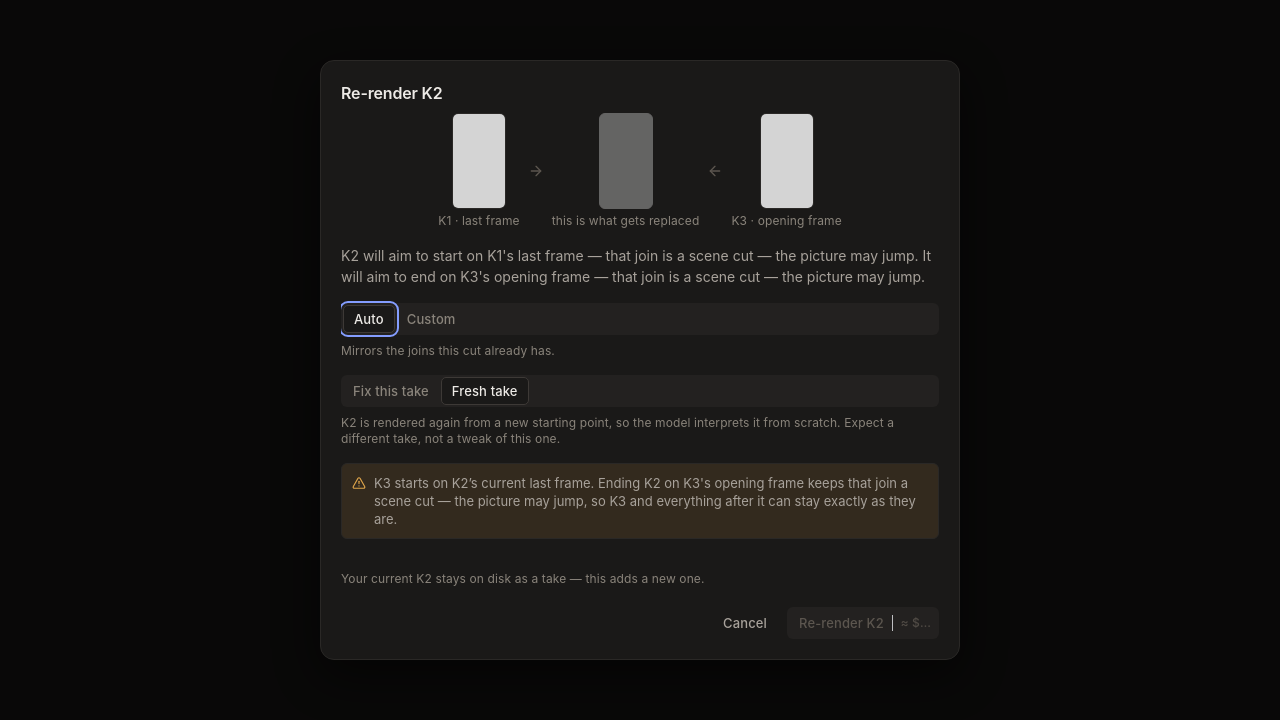
SegmentRerenderDialog — the boundary plan, in plain words (D14/D15) › Custom re-computes the sentence live, and opens on exactly what Auto would have done
Click the radio button labelled "Custom".
click(431, 319)  # box x1=397 y1=305 x2=466 y2=333
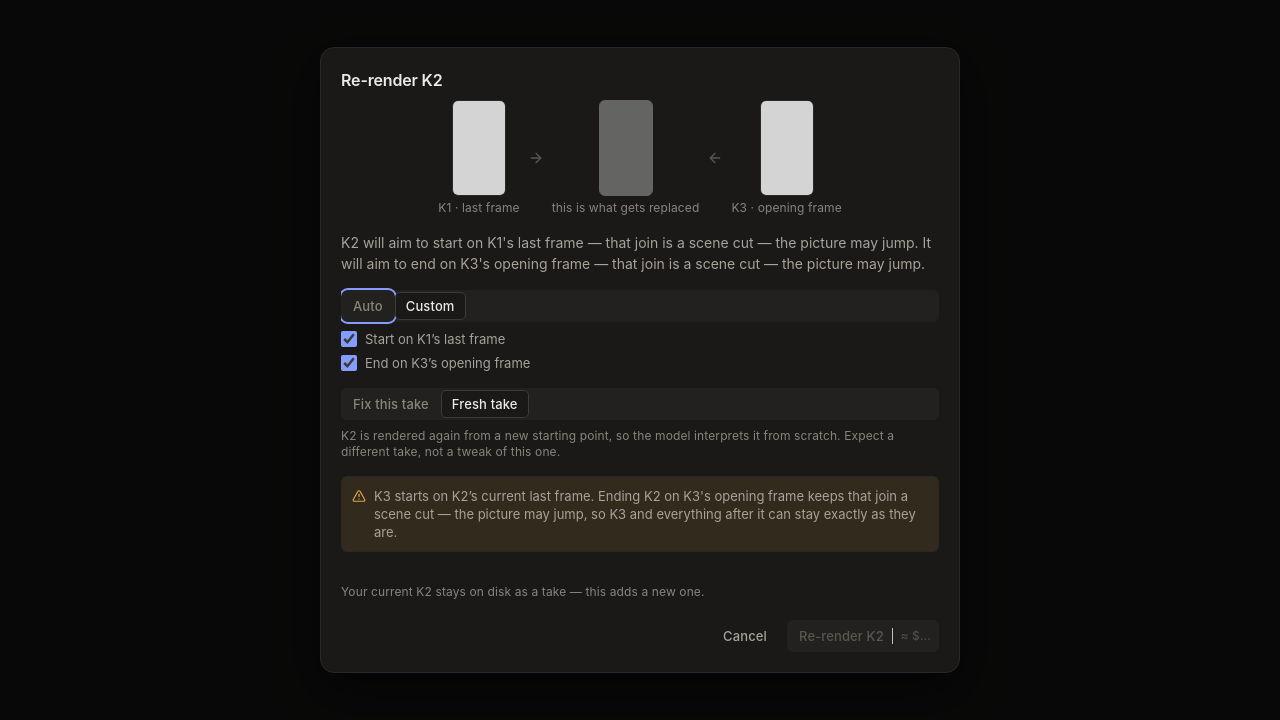
Click the checkbox labelled "End on K3’s opening frame".
click(349, 363)  # box x1=341 y1=355 x2=357 y2=371
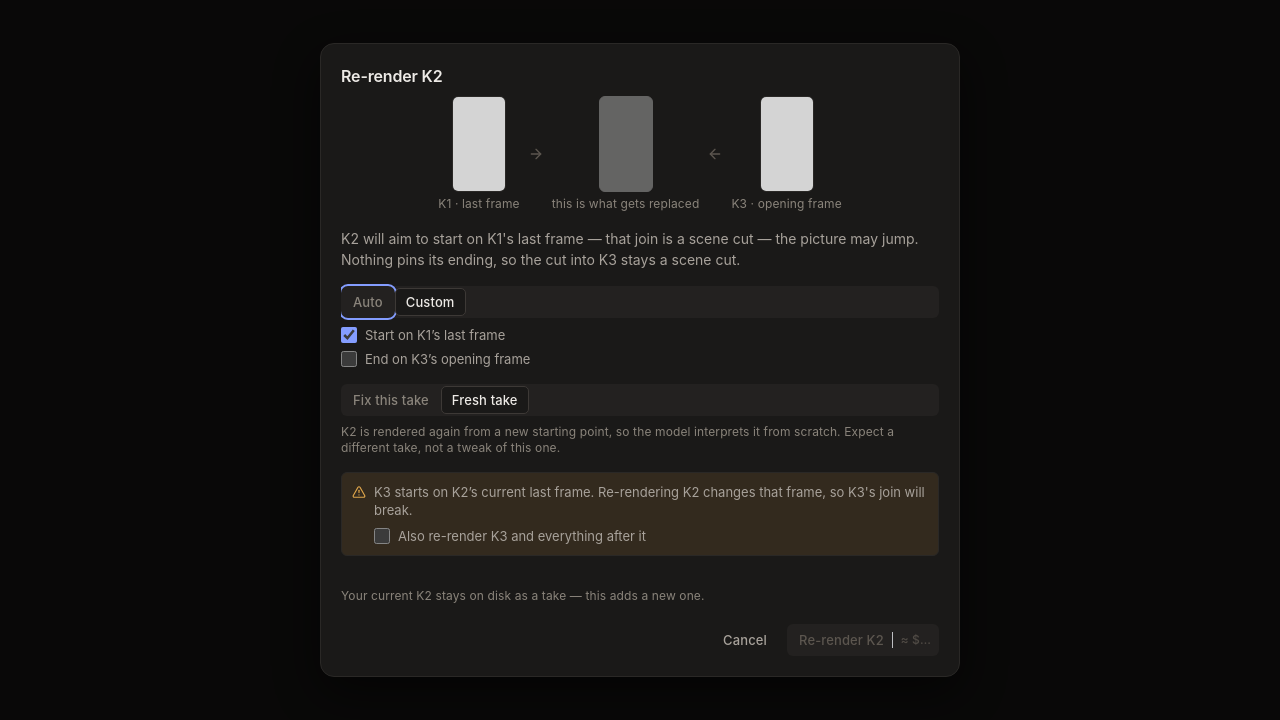
Expected: the text with test id "boundary-plan-sentence" shows "the cut into K3 stays a scene cut", x1=341 y1=230 x2=919 y2=268
Click the checkbox labelled "Start on K1’s last frame".
click(349, 335)  # box x1=341 y1=327 x2=357 y2=343
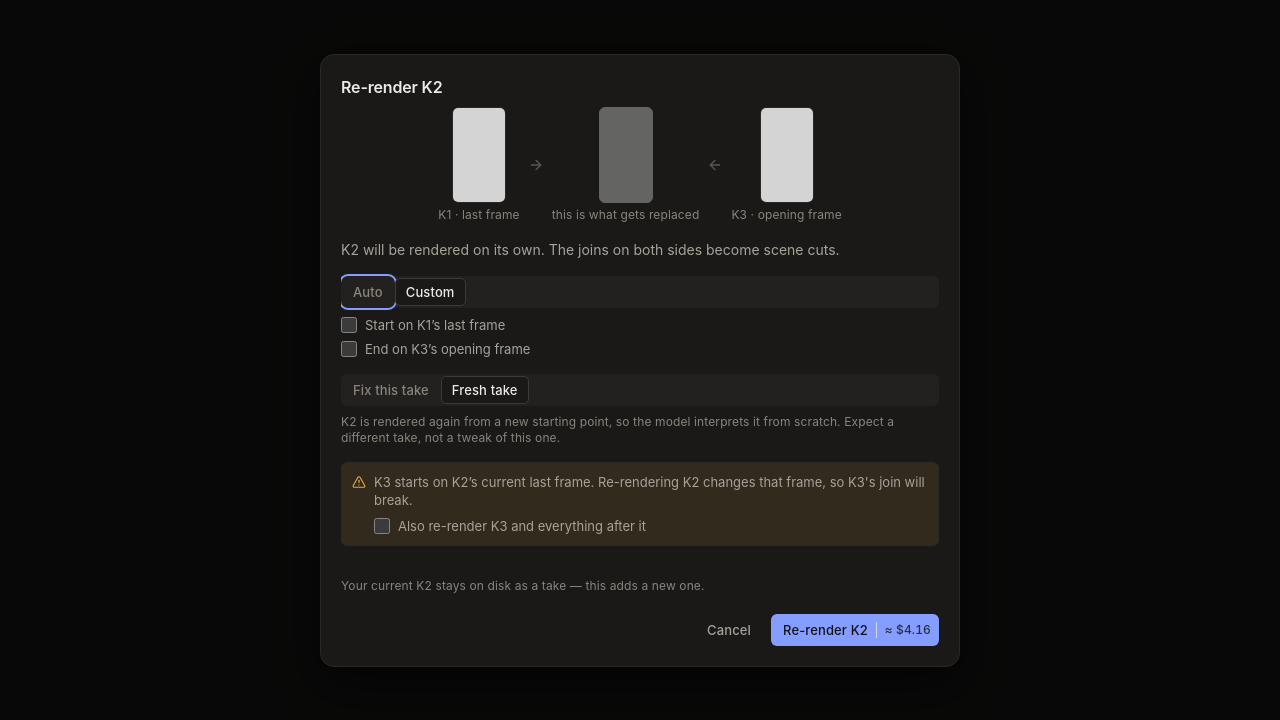
Expected: the text with test id "boundary-plan-sentence" reads "K2 will be rendered on its own. The joins on both sides become scene cuts.", x1=341 y1=240 x2=840 y2=258
